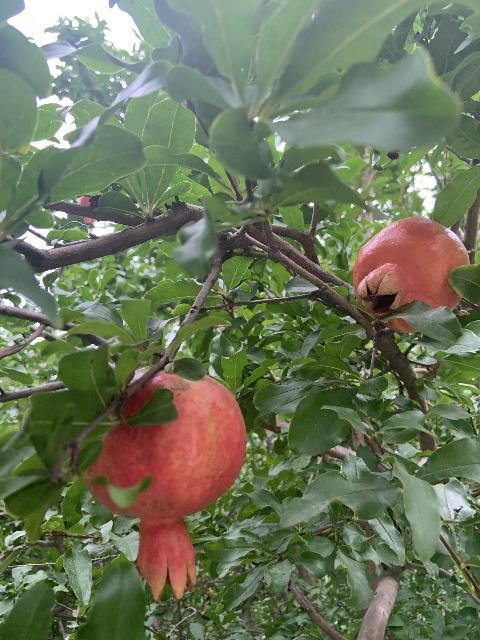ripe: (83, 370, 247, 601), (352, 216, 469, 332)
